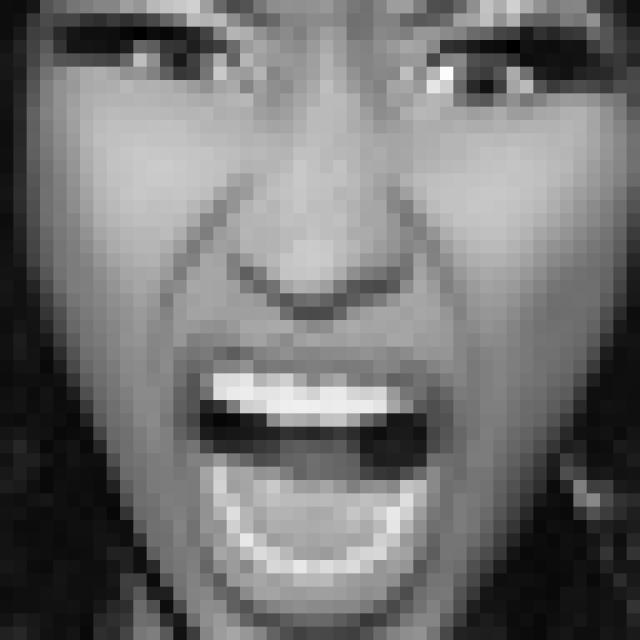angry: (47, 0, 618, 633)
